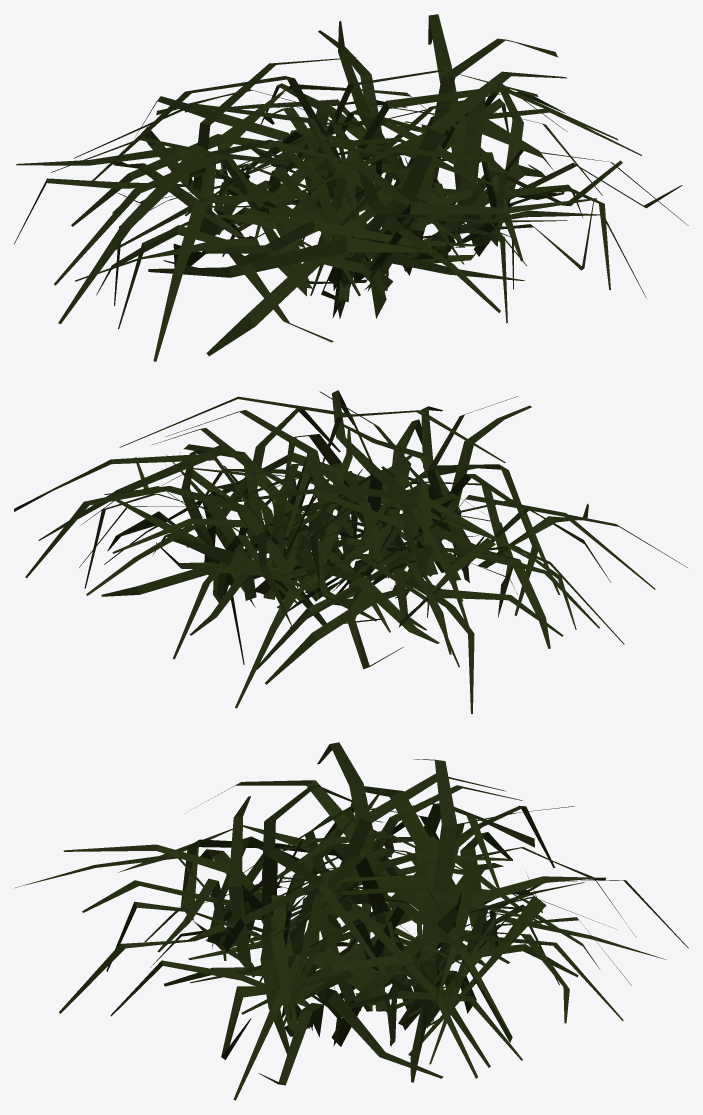
The model's file is JapaneseSedge1.obj.
The picture shows the model from 3 angles, top to bottom: view 1: azimuth 30°, elevation 25°; view 2: azimuth 150°, elevation 25°; view 3: azimuth 270°, elevation 25°; orthographic projection. The views are drawn at different scales.
Visible parts, largest first — view 1: JapaneseSedge1_Plane.003; view 2: JapaneseSedge1_Plane.003; view 3: JapaneseSedge1_Plane.003.
Part boxes in pixels (x1,y1,x2,y2): JapaneseSedge1_Plane.003: [14, 14, 688, 361]; JapaneseSedge1_Plane.003: [14, 390, 687, 713]; JapaneseSedge1_Plane.003: [14, 742, 688, 1100].
Bounding box in the file's own units: 2.63 × 0.7277 × 2.61.
